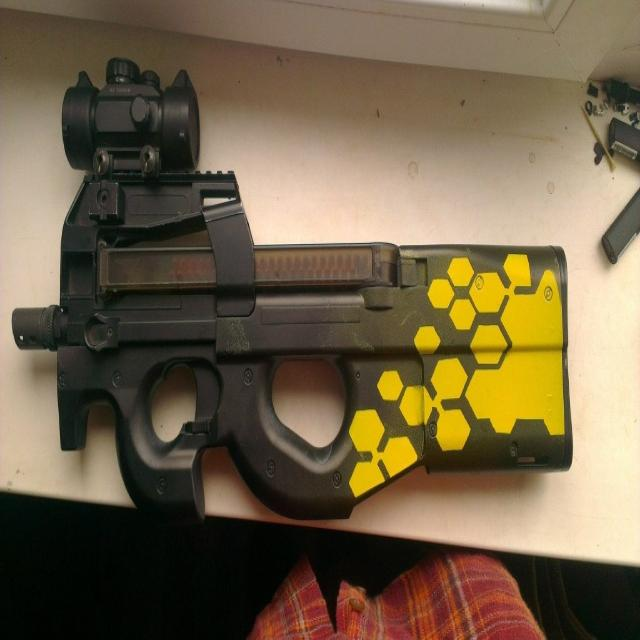firearm: (10, 61, 574, 519)
